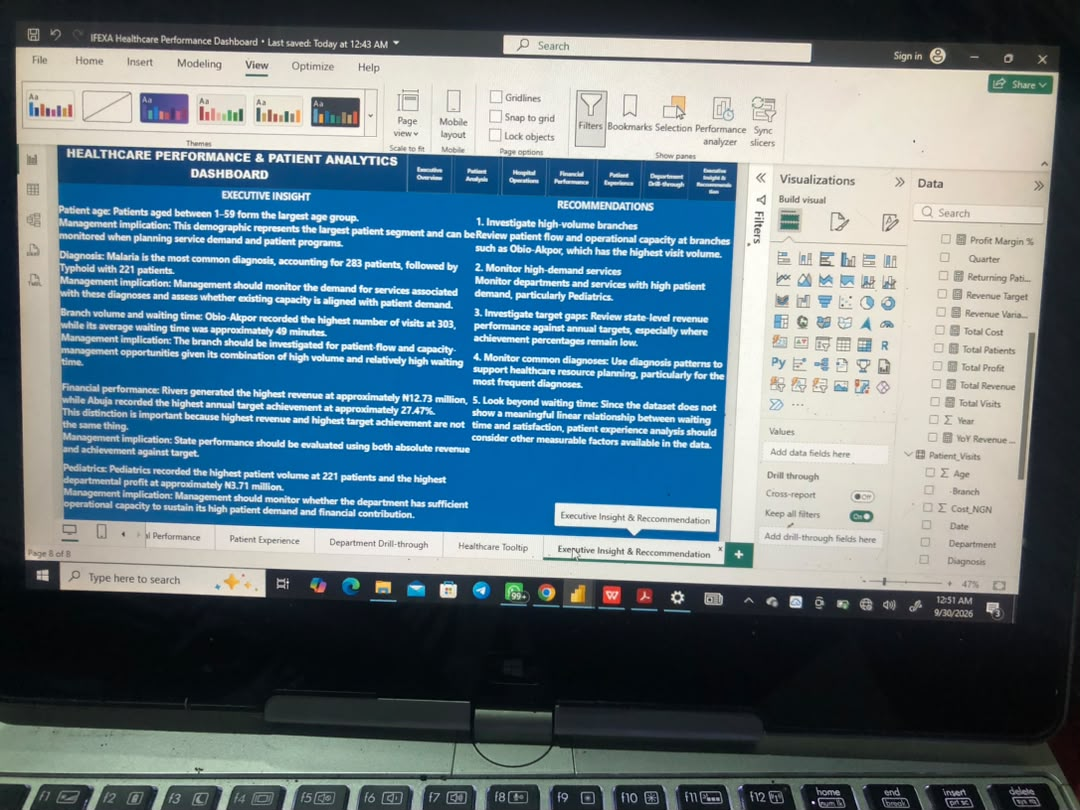

What the dashboard file says about the page in this screenshot:
{"tool":"powerbi","page":{"name":"Executive Insight & Reccommendation","canvas":[1920,1080],"ordinal":7},"visuals":[{"type":"textbox","box":[0,107.5,1192.5,972.5],"z":0},{"type":"pageNavigator","box":[995,0,925,107.5],"z":1},{"type":"textbox","box":[0,0,995,107.5],"z":2},{"type":"textbox","box":[1192.5,107.5,727.5,972.5],"z":3}]}

Visuals, with their boxes on the page's 1920x1080 design canvas (x1, y1, x2, y2). These are canvas units, not pixel positions in the 1080x810 screenshot, which may show the page scaled, cropped or inside an application window:
textbox: [x1=0, y1=108, x2=1192, y2=1080]
pageNavigator: [x1=995, y1=0, x2=1920, y2=108]
textbox: [x1=0, y1=0, x2=995, y2=108]
textbox: [x1=1192, y1=108, x2=1920, y2=1080]
